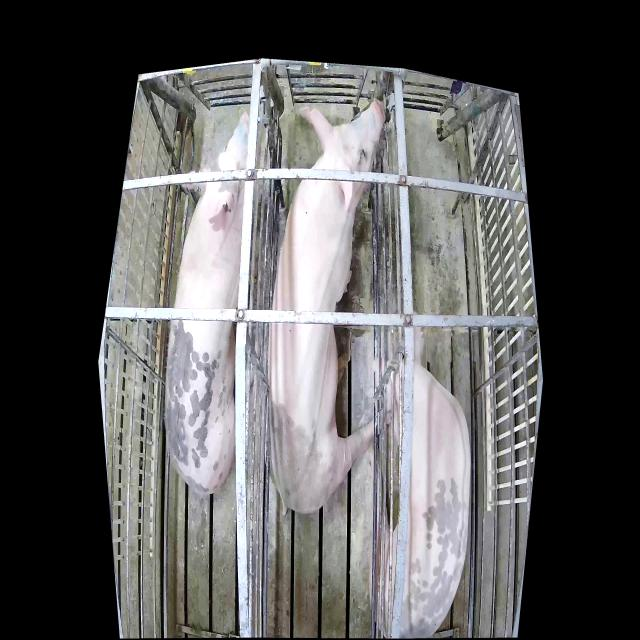pig: (267, 101, 384, 516), (165, 110, 257, 493), (368, 326, 470, 639)
